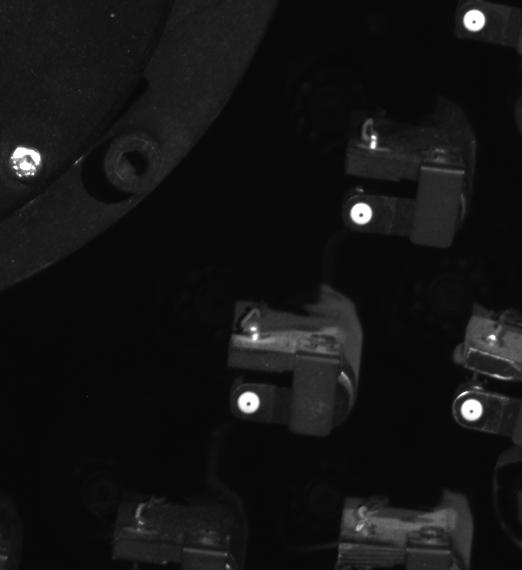fiber: (453, 5, 495, 40), (341, 196, 382, 229), (232, 387, 271, 419), (455, 393, 490, 427)
